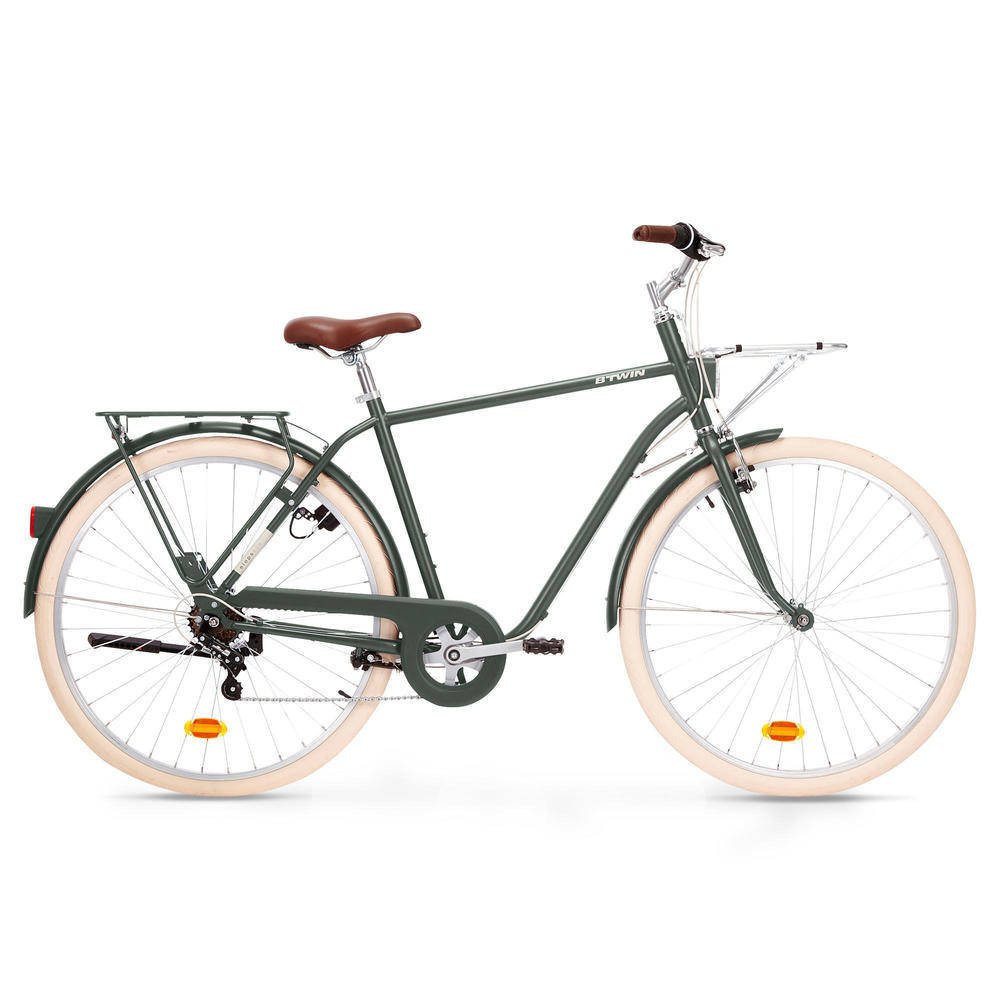UrbanBike: (5, 232, 1000, 807)
